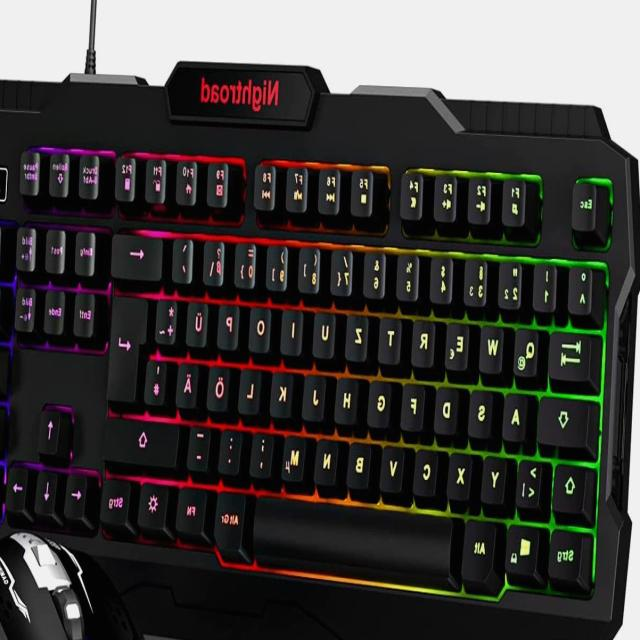0: (236, 236, 260, 287)
1: (534, 257, 560, 311)
2: (499, 255, 525, 309)
3: (465, 252, 492, 308)
4: (431, 249, 456, 301)
5: (397, 248, 423, 300)
6: (364, 245, 389, 297)
7: (332, 243, 356, 295)
8: (299, 241, 324, 293)
9: (268, 239, 292, 291)
a: (504, 387, 532, 443)
accent: (174, 231, 197, 280)
ae: (178, 356, 202, 406)
alt-left: (462, 513, 500, 585)
altgr-right: (216, 485, 249, 549)
b: (348, 436, 374, 488)
c: (414, 443, 441, 495)
caret: (570, 261, 596, 315)
comma: (252, 426, 277, 476)
d: (435, 381, 462, 433)
del: (113, 227, 165, 279)
e: (446, 317, 472, 369)
enter: (109, 288, 151, 402)
f: (402, 378, 428, 428)
g: (369, 375, 397, 427)
h: (336, 371, 362, 423)
hash: (146, 354, 170, 404)
i: (282, 304, 306, 352)
j: (304, 368, 329, 419)
k: (271, 366, 297, 416)
keyboard: (0, 129, 624, 636)
l: (241, 362, 265, 412)
less: (517, 453, 546, 511)
m: (283, 429, 309, 481)
minus: (189, 420, 214, 468)
n: (316, 433, 341, 483)
o: (250, 301, 274, 350)
oe: (208, 360, 234, 410)
p: (218, 298, 242, 347)
plus: (157, 292, 181, 343)
point: (220, 424, 244, 472)
q: (515, 323, 543, 377)
r: (412, 314, 438, 365)
s: (470, 385, 498, 437)
shift-left: (553, 460, 594, 516)
shift-lock: (538, 392, 594, 448)
shift-right: (104, 414, 182, 466)
space: (254, 491, 458, 576)
ss: (205, 234, 229, 284)
strg-left: (548, 524, 595, 590)
strg-right: (102, 473, 134, 525)
t: (380, 311, 404, 361)
tab: (549, 327, 599, 383)
u: (314, 305, 339, 356)
ue: (187, 295, 211, 345)
v: (381, 439, 407, 490)
w: (481, 320, 507, 372)
x: (449, 447, 475, 499)
y: (483, 451, 509, 503)
z: (346, 308, 371, 359)
